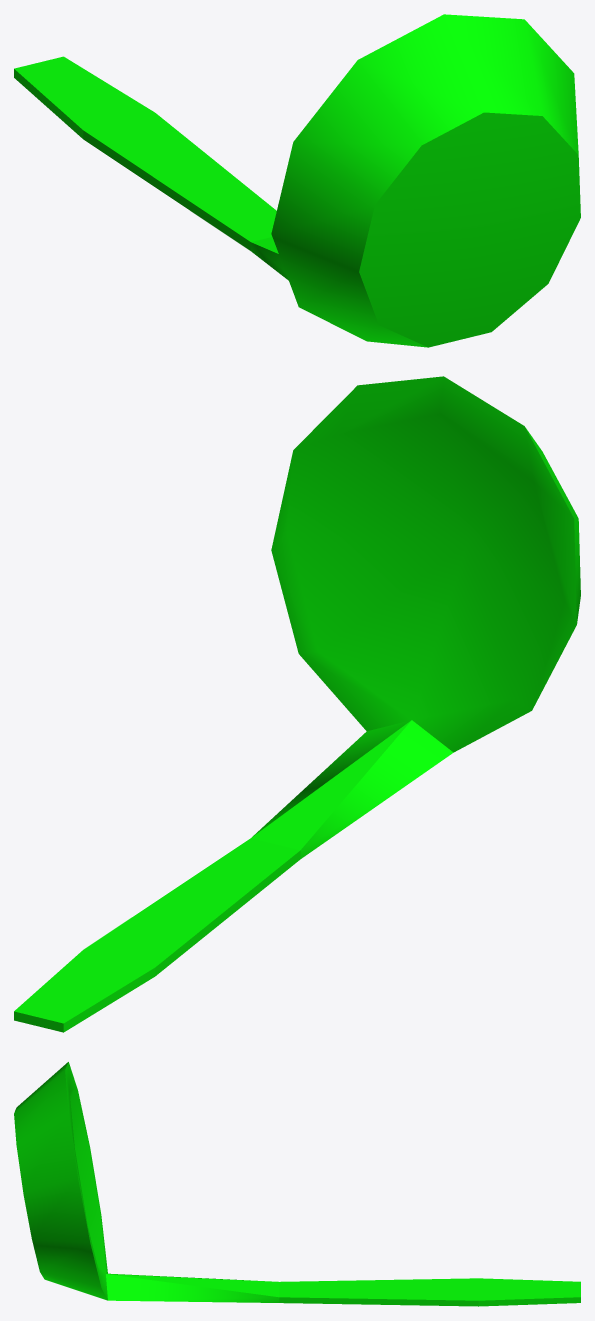
Rendered from SM_KitchenTool_03_Collider.fbx.
3 views of the same model, one above another, from view 1: azimuth 30°, elevation 25°; view 2: azimuth 150°, elevation 25°; view 3: azimuth 270°, elevation 25° (orthographic). The views are drawn at different scales.
Parts seen in each view (by area): view 1: SM_KitchenTool_03_Collider; view 2: SM_KitchenTool_03_Collider; view 3: SM_KitchenTool_03_Collider.
Boxes of the visible parts, x1=… form: SM_KitchenTool_03_Collider: x1=14, y1=14, x2=580, y2=347; SM_KitchenTool_03_Collider: x1=14, y1=376, x2=580, y2=1032; SM_KitchenTool_03_Collider: x1=14, y1=1062, x2=580, y2=1306.
Bounding box in the file's own units: 16.87 × 18.66 × 42.55.
